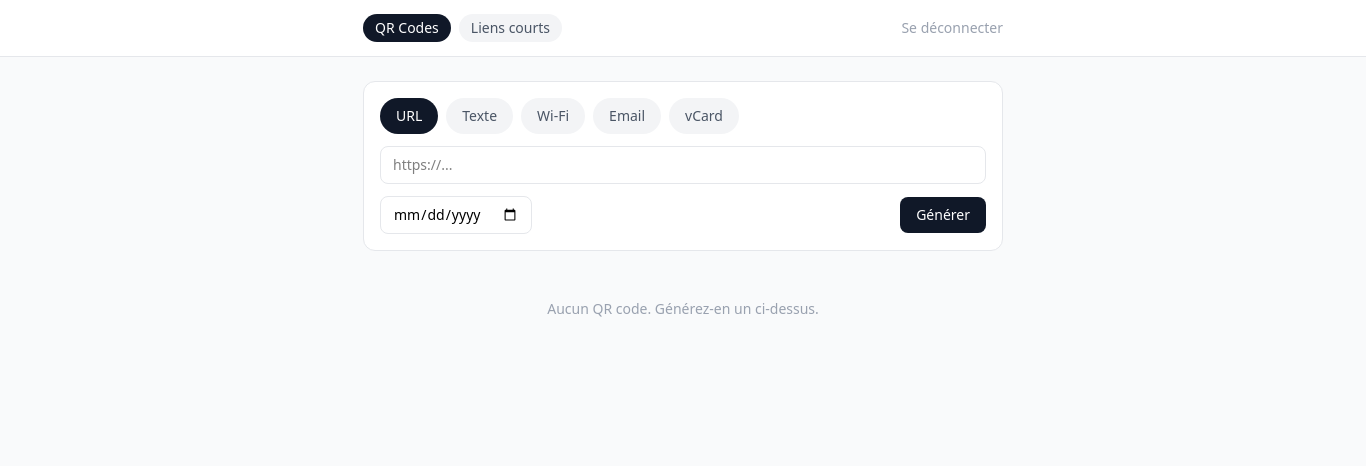
CreateForm › should render to, subject, body inputs when Email is selected
Click the button "Email" at (627, 116), box [593, 98, 661, 134]
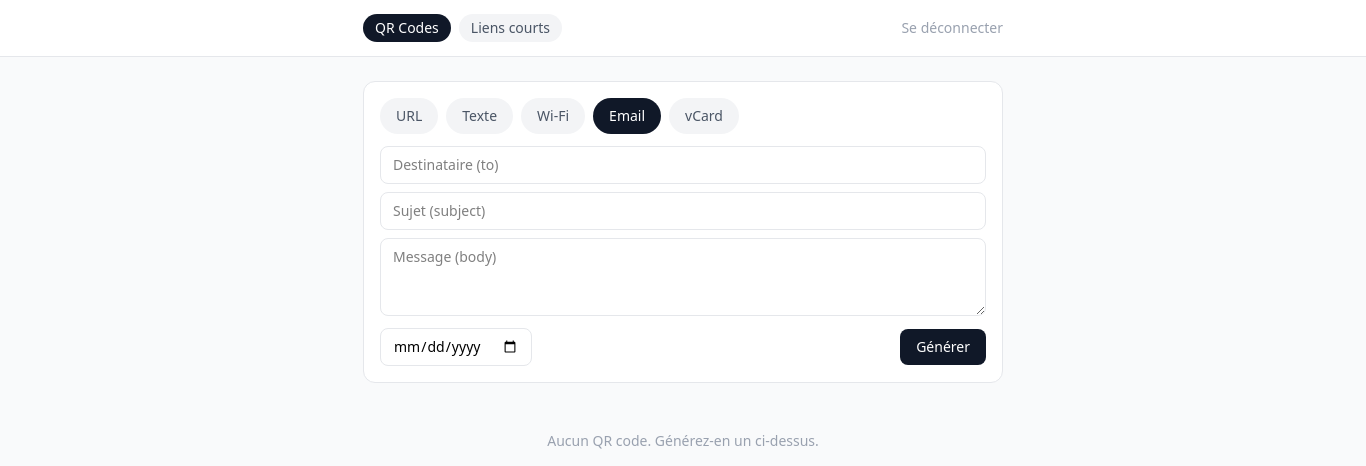
Expected: the field with placeholder "Destinataire (to)" is shown, [380, 146, 986, 184]
Expected: the field with placeholder "Sujet (subject)" is shown, [380, 192, 986, 230]
Expected: the text box with placeholder "Message (body)" is shown, [380, 238, 986, 316]
